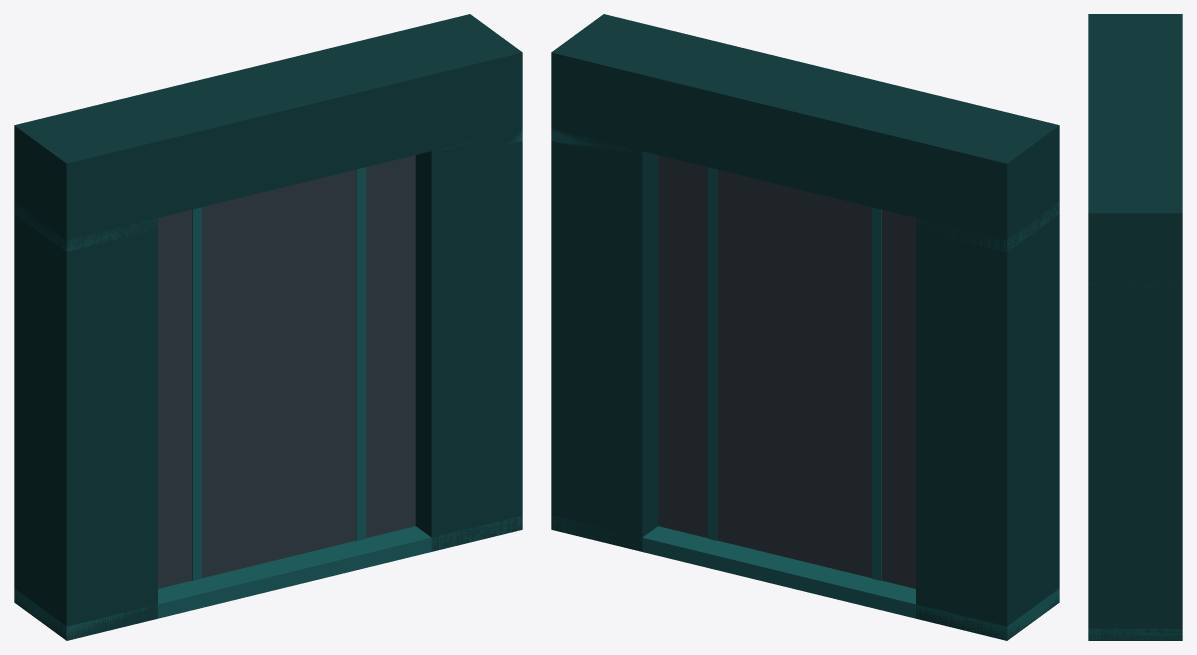
The model's file is descent_gate.glb.
The picture shows the model from 3 angles, left to right: view 1: azimuth 30°, elevation 25°; view 2: azimuth 150°, elevation 25°; view 3: azimuth 270°, elevation 25°; orthographic projection. The views are drawn at different scales.
Visible parts, largest first — view 1: descent_gate_frame, descent_gate_door; view 2: descent_gate_frame, descent_gate_door; view 3: descent_gate_frame.
Part boxes in pixels (x1,y1,x2,y2): descent_gate_frame: (14,14,522,640); descent_gate_door: (158,155,415,588); descent_gate_frame: (551,14,1059,640); descent_gate_door: (658,155,915,588); descent_gate_frame: (1088,14,1182,640).
Size of the model in its own units: 5 by 5 by 1.
